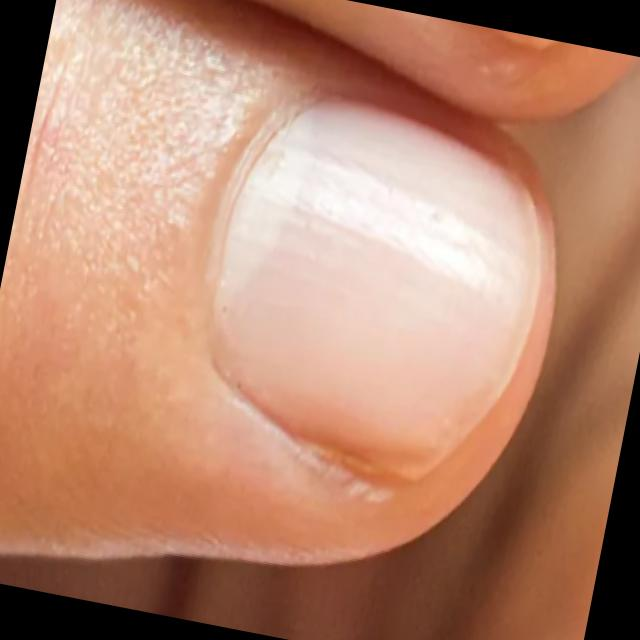Nail: (214, 102, 540, 479)
